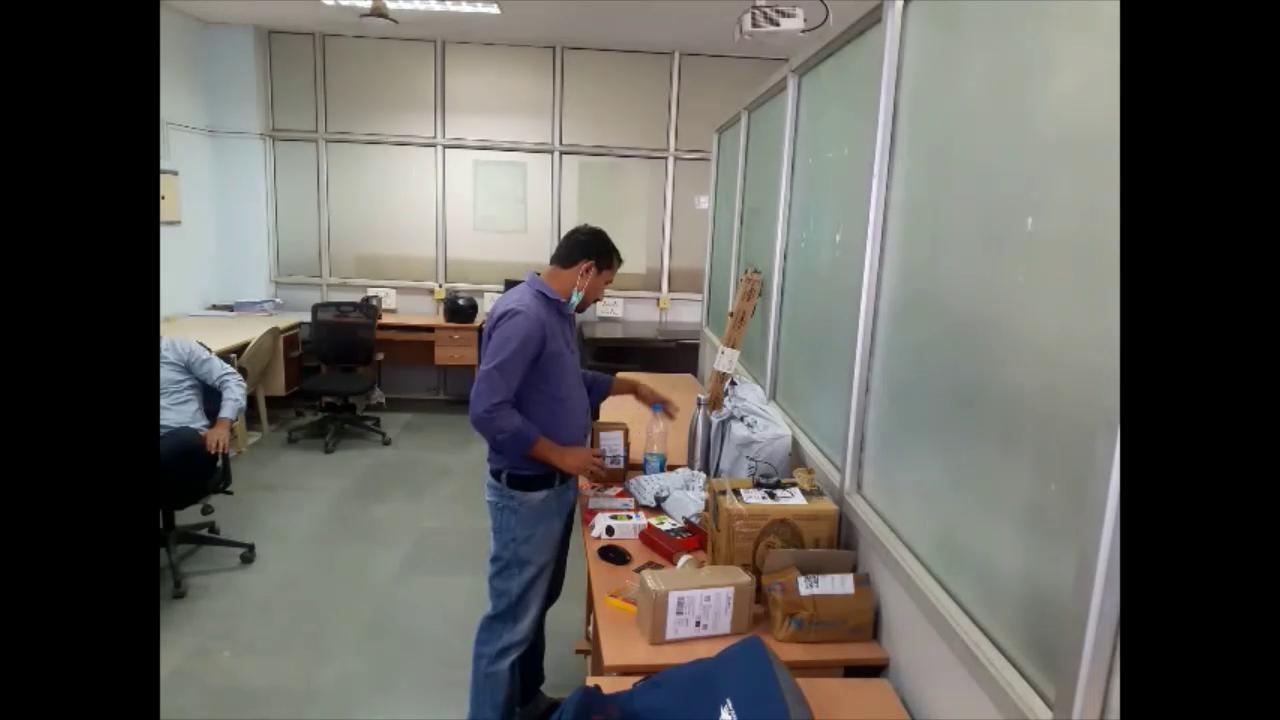Normal: (462, 219, 684, 720)
